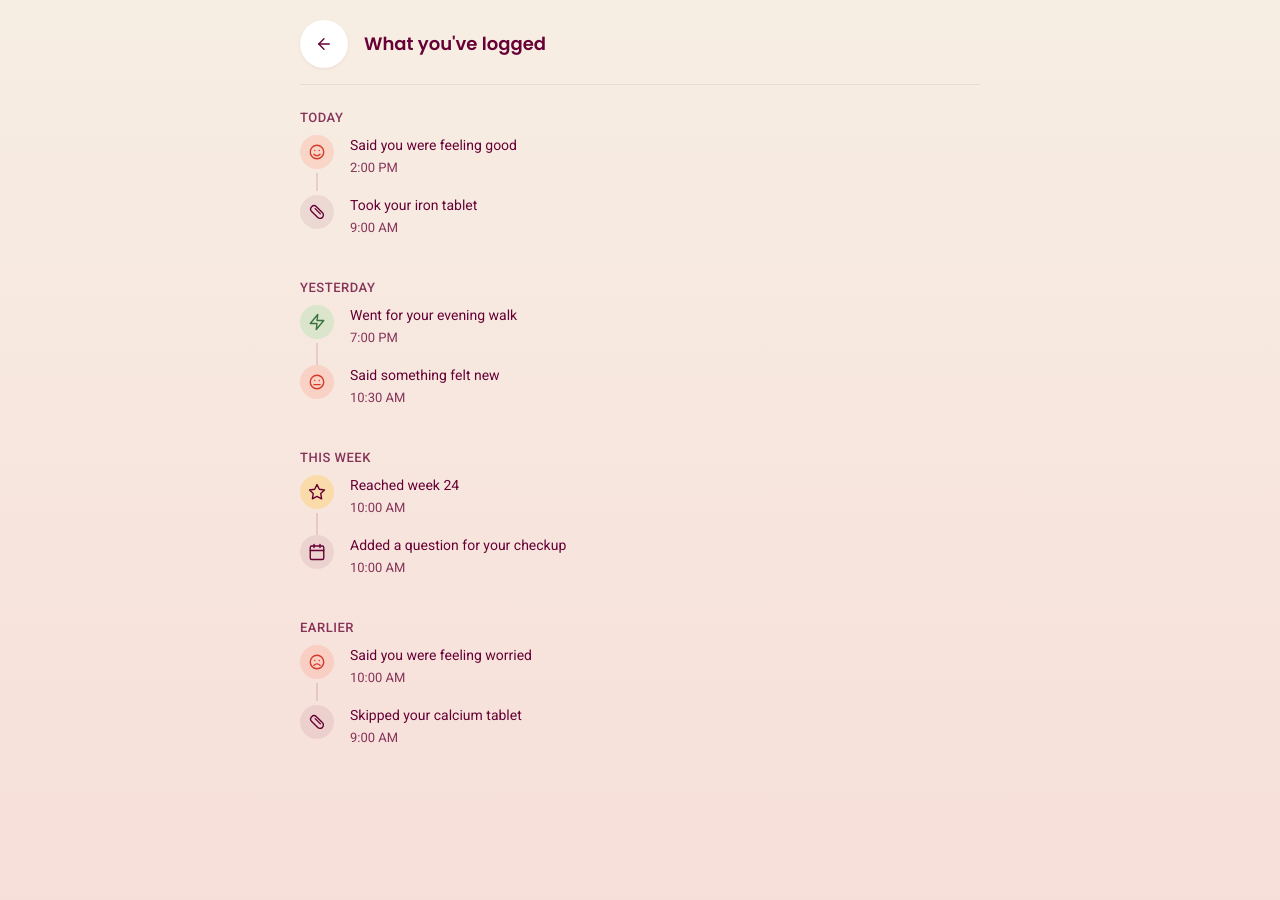
Test case: ActivityFeed › reveals the typed text in a detail view when a mood row with notes is tapped
Click the button "Said you were feeling good 2:00 PM". click: click(317, 152)
box: [300, 135, 980, 195]
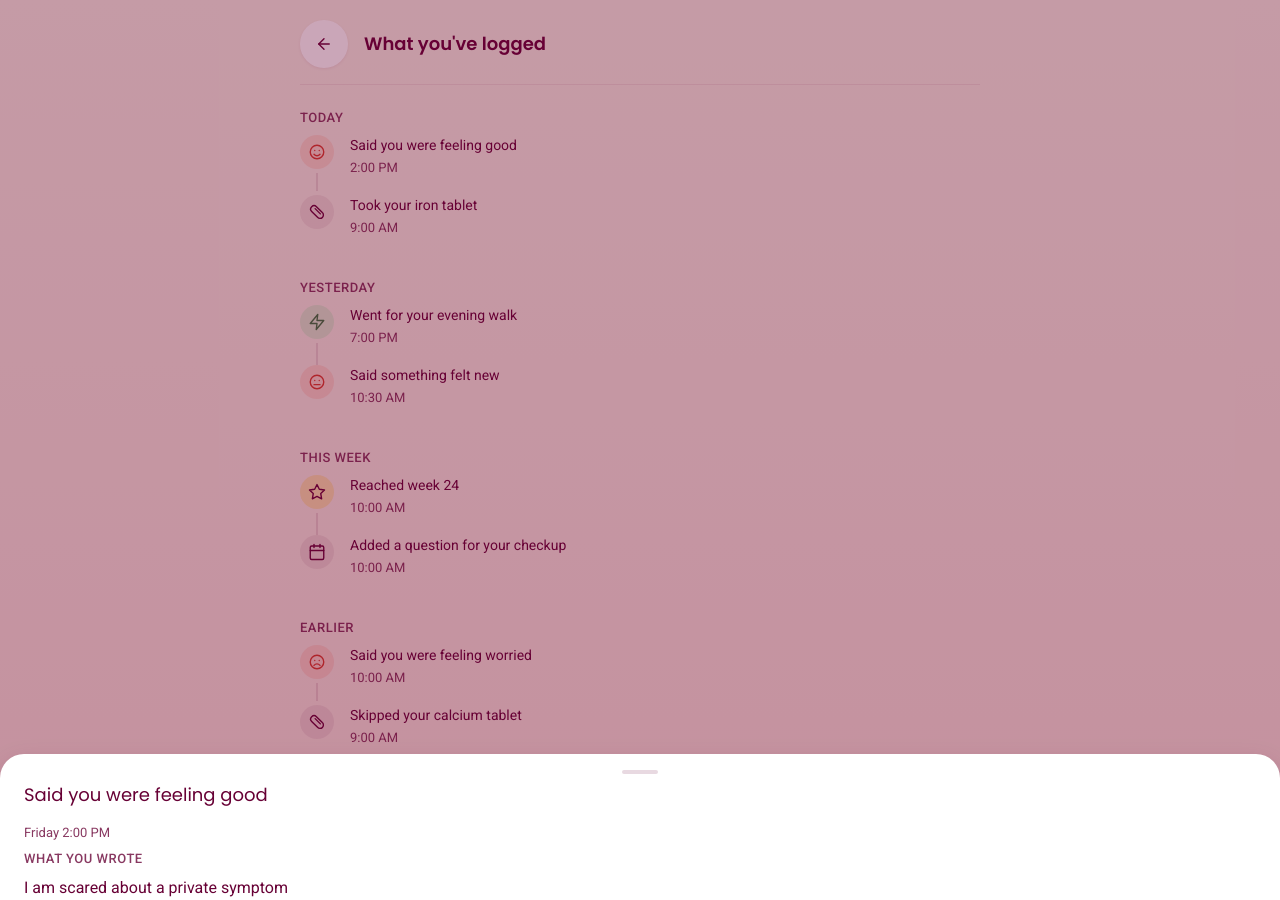
Check: the text "I am scared about a private symptom" is shown, box [24, 878, 288, 897]
